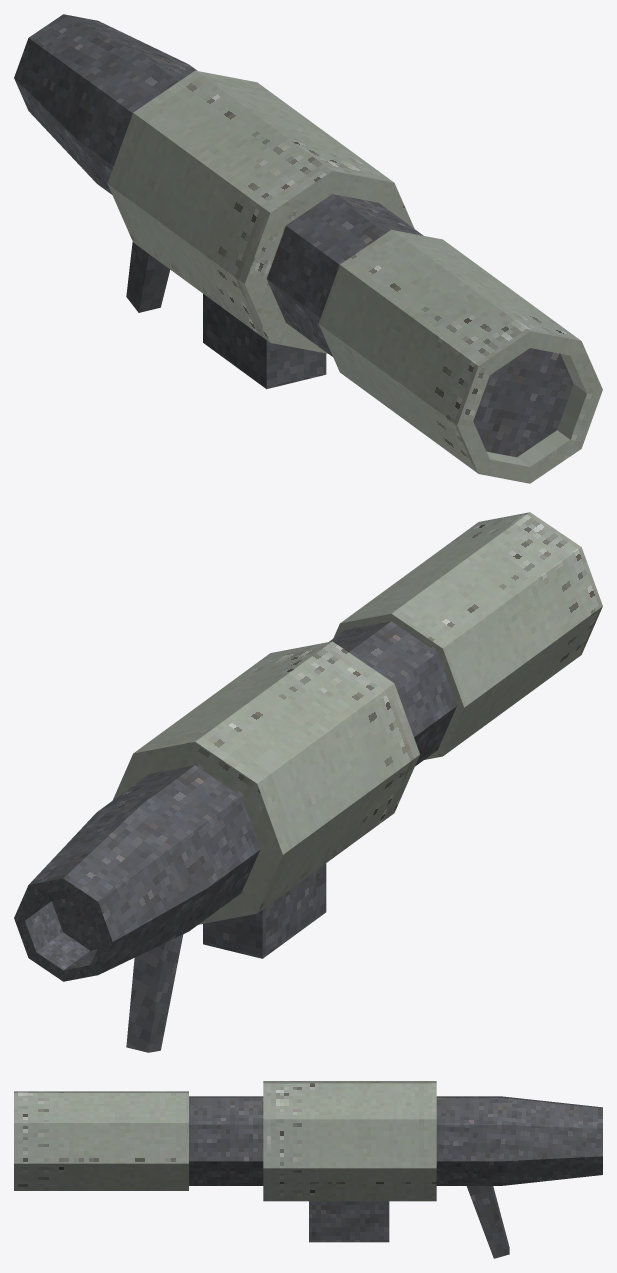
Rendered from rocketlauncher.glb.
The picture shows the model from 3 angles, top to bottom: view 1: azimuth 30°, elevation 25°; view 2: azimuth 150°, elevation 25°; view 3: azimuth 270°, elevation 25°; orthographic projection. The views are drawn at different scales.
Parts seen in each view (by area): view 1: RocketLauncher; view 2: RocketLauncher; view 3: RocketLauncher.
Part boxes in pixels (x1,y1,x2,y2): RocketLauncher: (14, 14, 602, 483); RocketLauncher: (14, 512, 602, 1052); RocketLauncher: (14, 1081, 602, 1258).
Size of the model in its own units: 0.9282 by 1.38 by 4.28.
2 materials, 2 textured.
